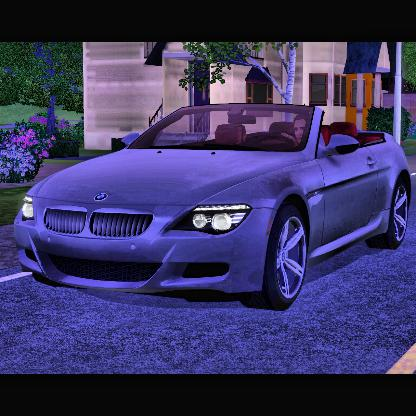BMW M6 Convertible 2010: (13, 103, 414, 313)
